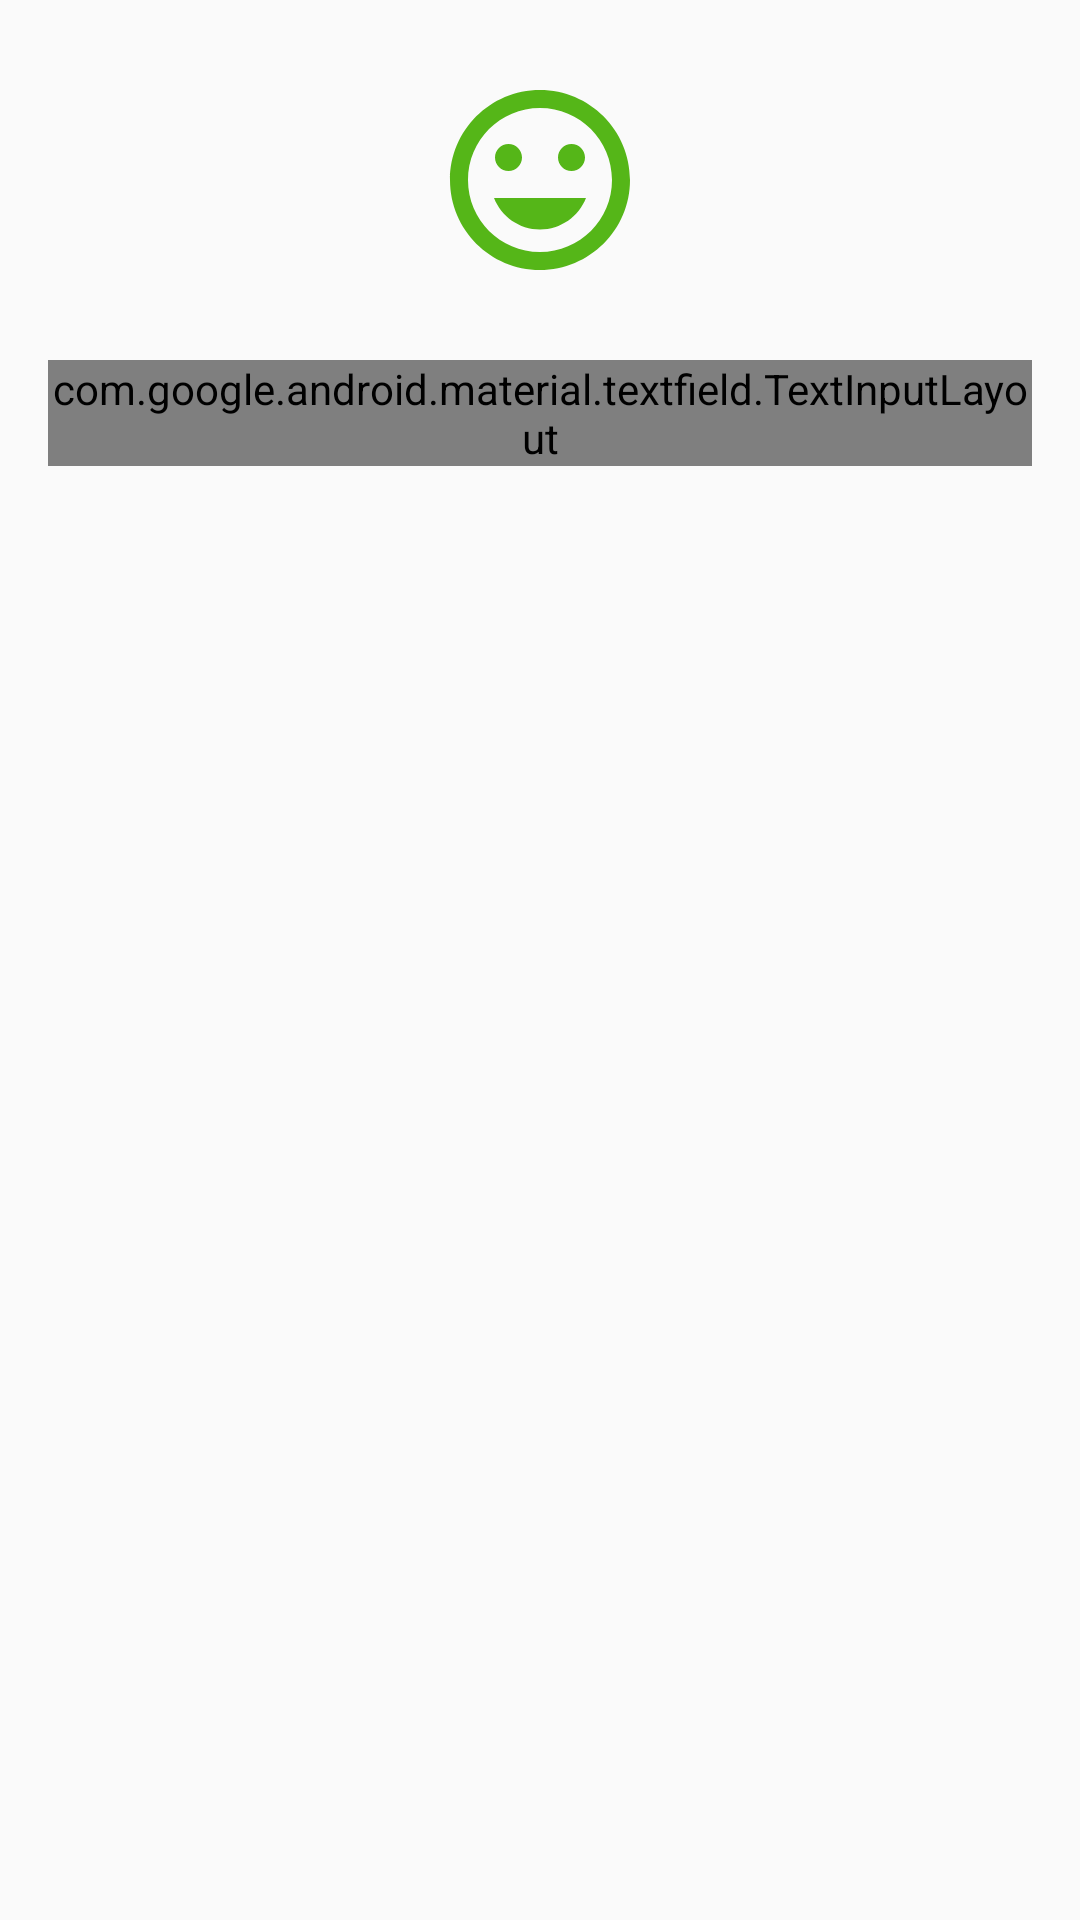

Icons on this 1080 x 1920 Android screen, each with its box as (x1, y1, x2, y2):
tag faces: (450, 90, 630, 270)
